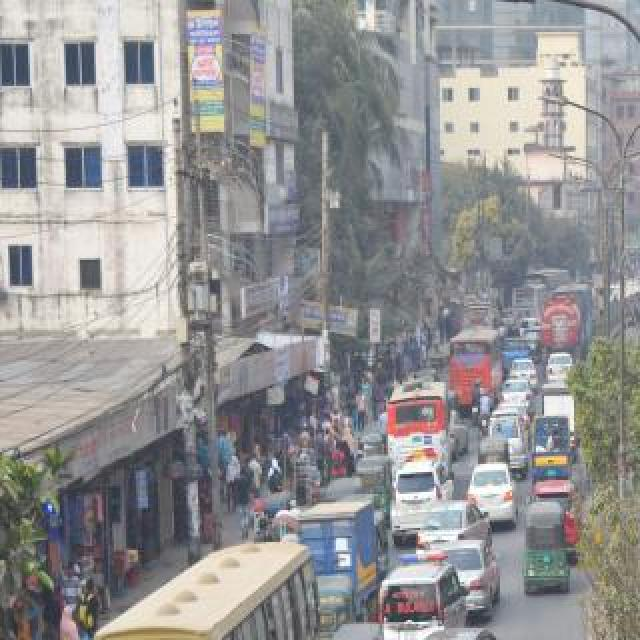bus: (84, 524, 320, 640), (387, 374, 451, 472), (447, 327, 507, 421)
car: (391, 460, 461, 540), (437, 540, 503, 618), (532, 482, 588, 556), (419, 499, 493, 553), (467, 454, 519, 526), (398, 618, 544, 640), (503, 378, 537, 414), (544, 351, 576, 383), (510, 358, 534, 392)
motorbike: (479, 387, 493, 439), (469, 379, 483, 429)
truck: (542, 287, 586, 357)
van: (299, 495, 389, 603), (380, 552, 464, 640), (529, 413, 573, 483), (539, 380, 585, 442), (490, 409, 530, 471)
